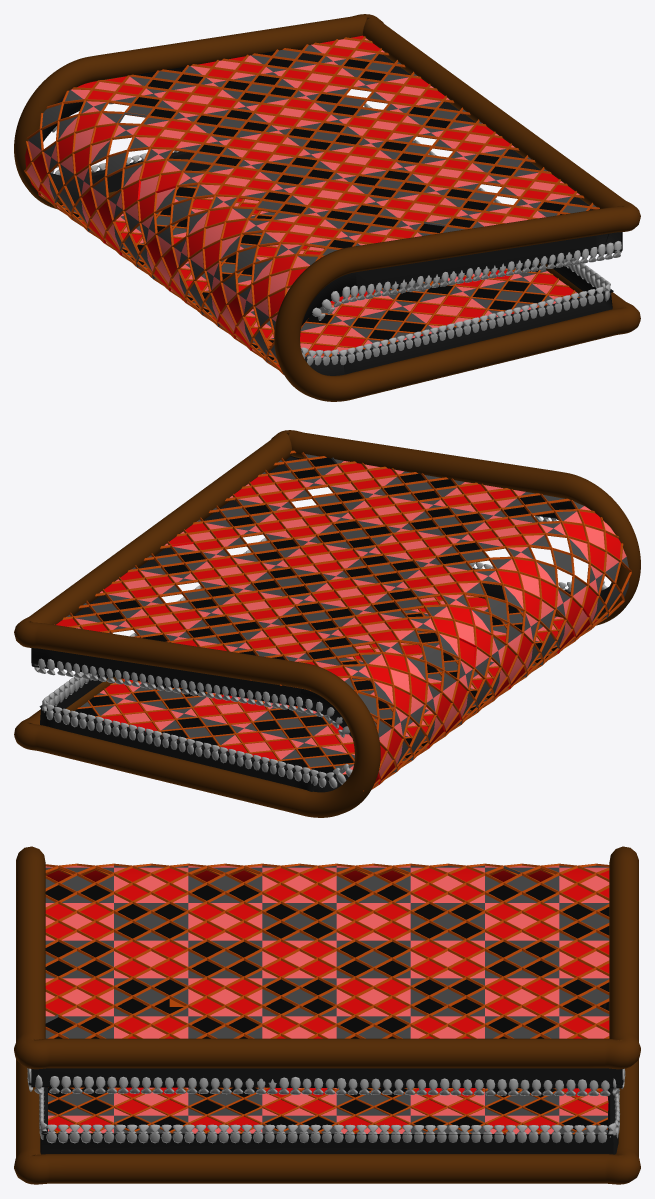
Rendered from pencilcase.FBX.
3 renders of one model, top to bottom at view 1: azimuth 30°, elevation 25°; view 2: azimuth 150°, elevation 25°; view 3: azimuth 270°, elevation 25°, orthographic. The views are drawn at different scales.
Parts seen in each view (by area): view 1: real, Shape002, Shape001, Line031; view 2: real, Shape002, Shape001, Line031; view 3: real, Shape002, Shape001, Line031.
Part boxes in pixels (x1,y1,x2,y2): real: (24, 35, 599, 374); Shape002: (14, 14, 640, 401); Shape001: (42, 50, 622, 375); Line031: (51, 103, 621, 365); real: (54, 450, 631, 791); Shape002: (14, 430, 640, 817); Shape001: (31, 456, 617, 792); Line031: (34, 487, 607, 788); real: (45, 863, 609, 1134); Shape002: (14, 846, 640, 1184); Shape001: (28, 1002, 623, 1154); Line031: (27, 1068, 625, 1143).
Bounding box in the file's own units: 121 × 47.75 × 158.
